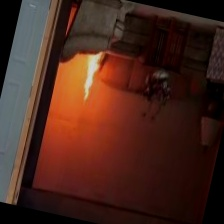fire: (67, 52, 109, 110)
